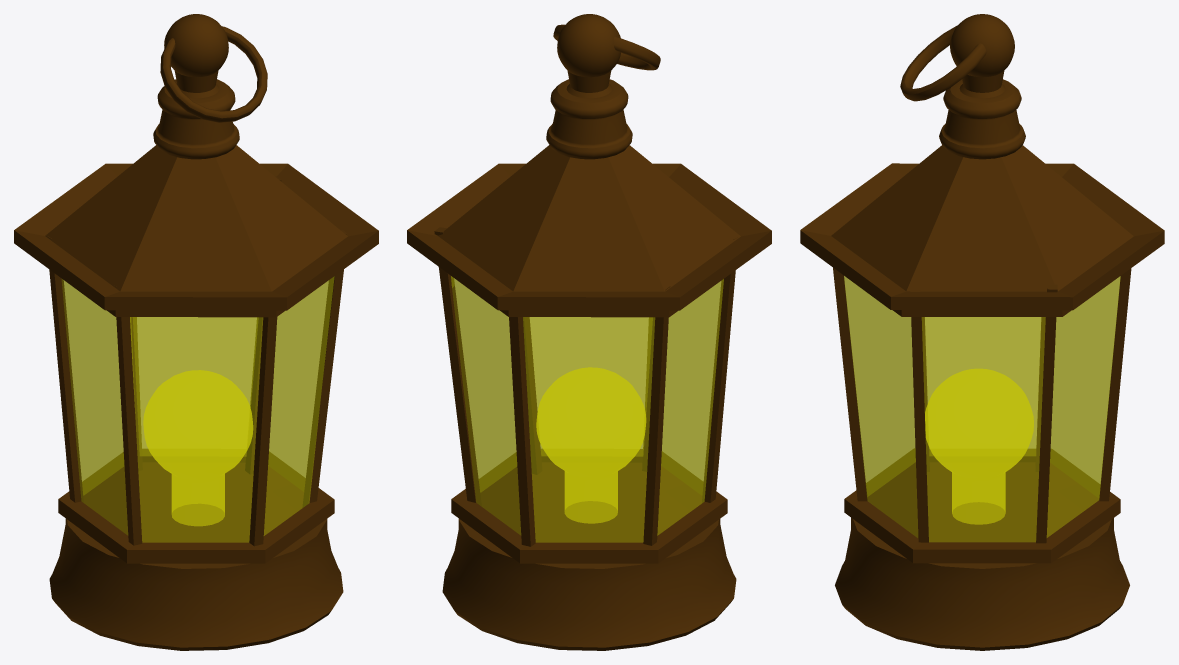
Rendered from rannpu.fbx.
3 renders of one model, left to right at view 1: azimuth 30°, elevation 25°; view 2: azimuth 150°, elevation 25°; view 3: azimuth 270°, elevation 25°, orthographic.
Parts seen in each view (by area): view 1: pCylinder6; view 2: pCylinder6; view 3: pCylinder6.
Boxes of the visible parts, x1=… form: pCylinder6: x1=14, y1=14, x2=378, y2=650; pCylinder6: x1=407, y1=14, x2=771, y2=650; pCylinder6: x1=800, y1=14, x2=1164, y2=650.
Size of the model in its own units: 2.4 by 4.81 by 2.77.
